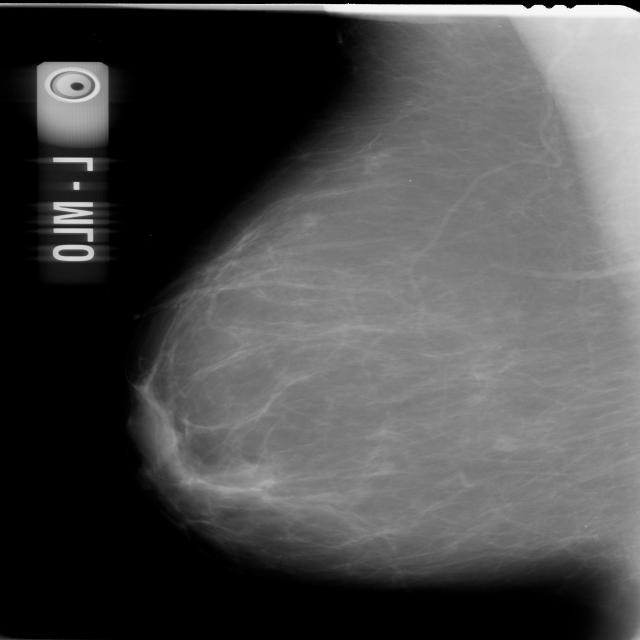cancer: (126, 366, 358, 536)
